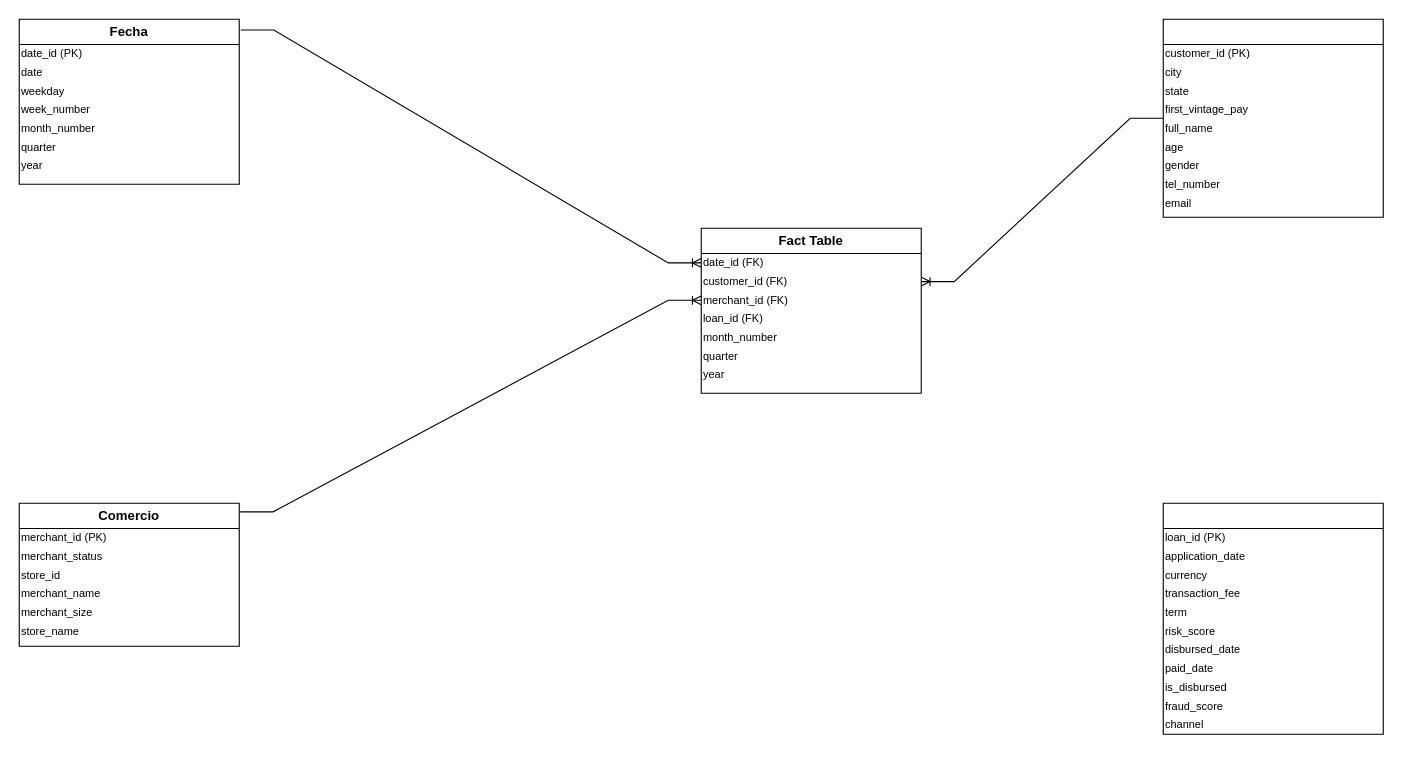
The diagram is 1403 pixels wide and 762 high, and some of its shapes have lost their labels. Here are the shapes that lost their labels. From the top down, the box of each, then its label:
(1162, 18, 1383, 217): Cliente
(1162, 502, 1383, 734): Préstamo
